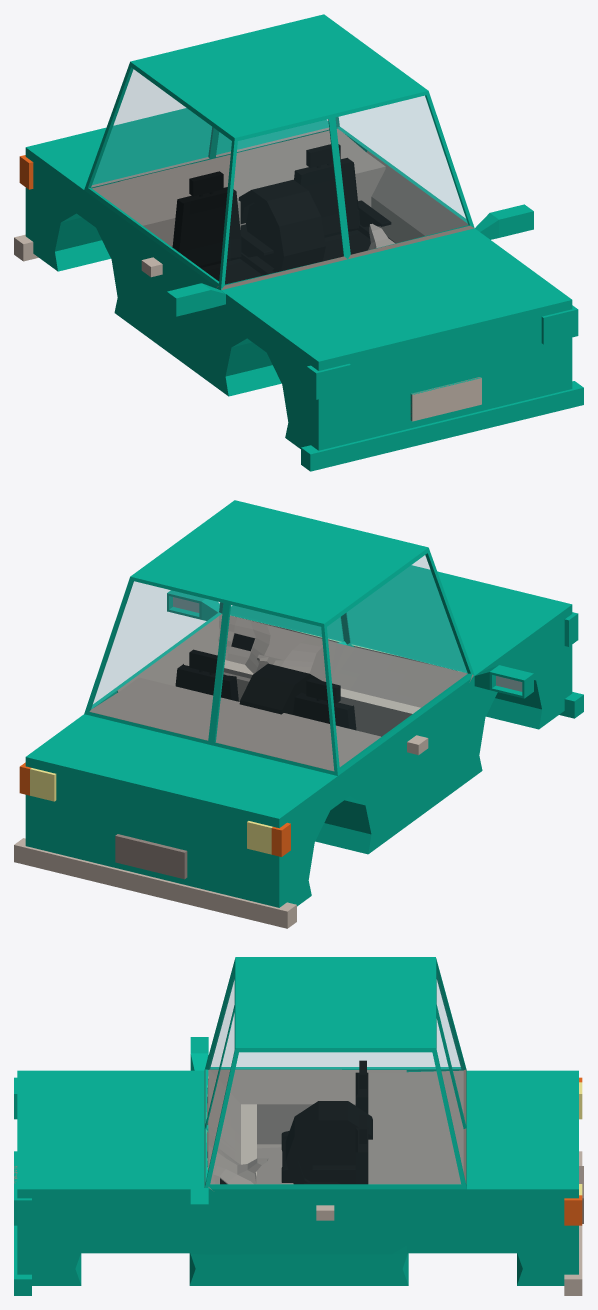
The model's file is CarAll.fbx.
The picture shows the model from 3 angles, top to bottom: view 1: azimuth 30°, elevation 25°; view 2: azimuth 150°, elevation 25°; view 3: azimuth 270°, elevation 25°; orthographic projection. The views are drawn at different scales.
Parts seen in each view (by area): view 1: 1 Body, 1 Wheels L, 1 Wheels R; view 2: 1 Body, 1 Wheels R, 1 Wheels L; view 3: 1 Body, 1 Wheels R, 1 Wheels L.
Part boxes in pixels (x1,y1,x2,y2): 1 Body: (14, 14, 583, 471); 1 Wheels L: (246, 179, 325, 269); 1 Wheels R: (238, 181, 311, 272); 1 Body: (14, 500, 583, 928); 1 Wheels R: (245, 665, 321, 714); 1 Wheels L: (239, 663, 306, 714); 1 Body: (14, 957, 583, 1295); 1 Wheels R: (285, 1101, 372, 1181); 1 Wheels L: (285, 1103, 372, 1184).
Bounding box in the file's own units: 184 × 118 × 265.
Materials: 4 (3 with a texture image).
